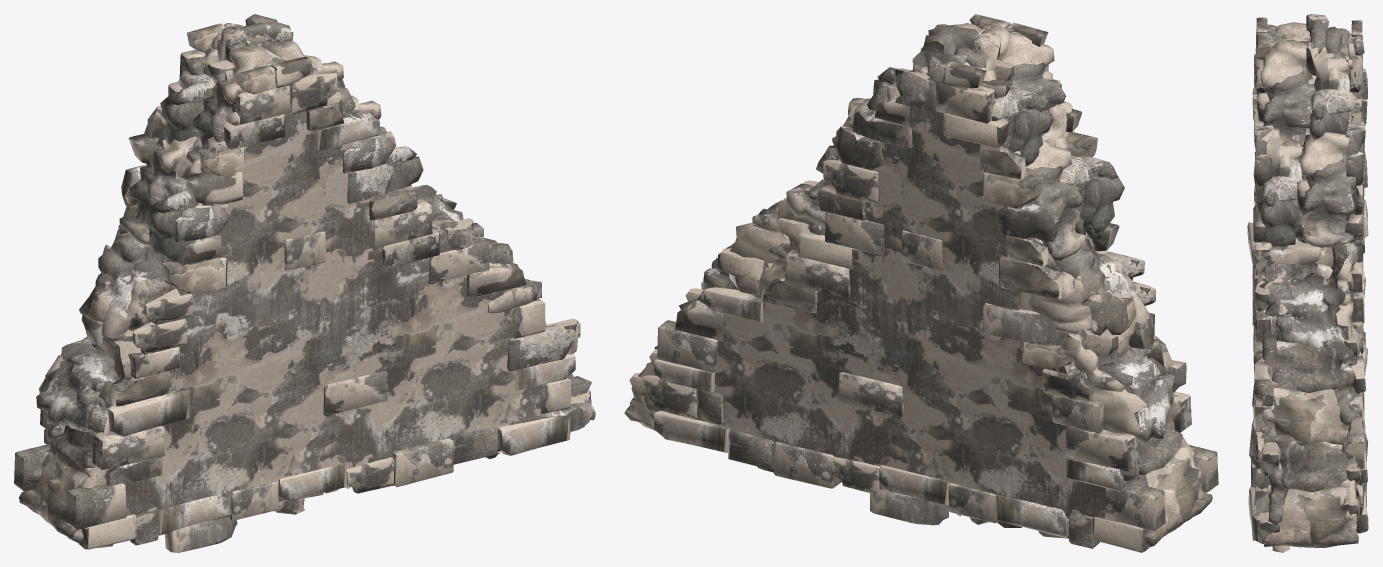
The model's file is SM_Wall_8x8_Broken_01e.fbx.
The picture shows the model from 3 angles, left to right: view 1: azimuth 30°, elevation 25°; view 2: azimuth 150°, elevation 25°; view 3: azimuth 270°, elevation 25°; orthographic projection. The views are drawn at different scales.
Parts seen in each view (by area): view 1: SM_Wall_8x8_Broken_01e; view 2: SM_Wall_8x8_Broken_01e; view 3: SM_Wall_8x8_Broken_01e.
Boxes of the visible parts, bbox=[...] form: SM_Wall_8x8_Broken_01e: bbox=[14, 14, 595, 552]; SM_Wall_8x8_Broken_01e: bbox=[624, 14, 1218, 552]; SM_Wall_8x8_Broken_01e: bbox=[1247, 14, 1368, 552].
Size of the model in its own units: 1034 by 881 by 233.
